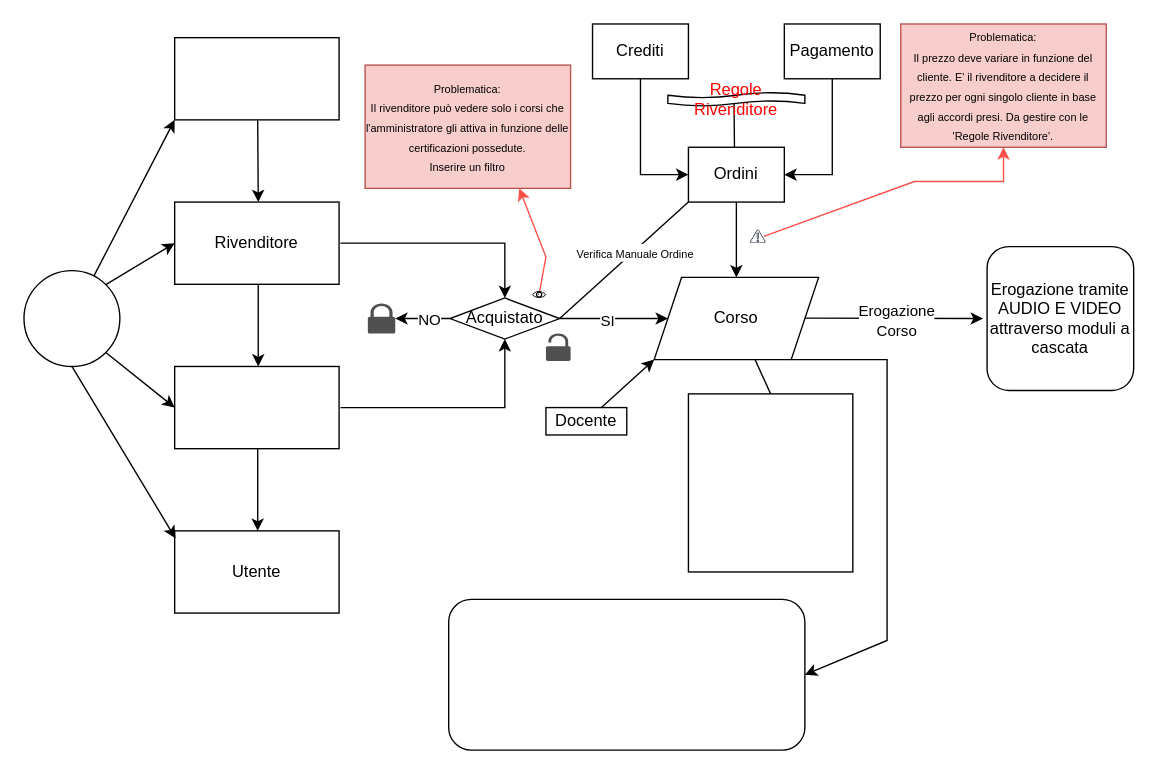
Image size: 1158x774. Some labels were removed from this diagram. The centre of each missing label's shape, as x and y in pixels:
Amministratore: (256,78)
Cliente: (256,407)
I corsi vengono: (626,674)
Profilo: (71,317)
• Titolo • Tipologia * • Durata • Limite Corso • Prezzo: (770,482)
